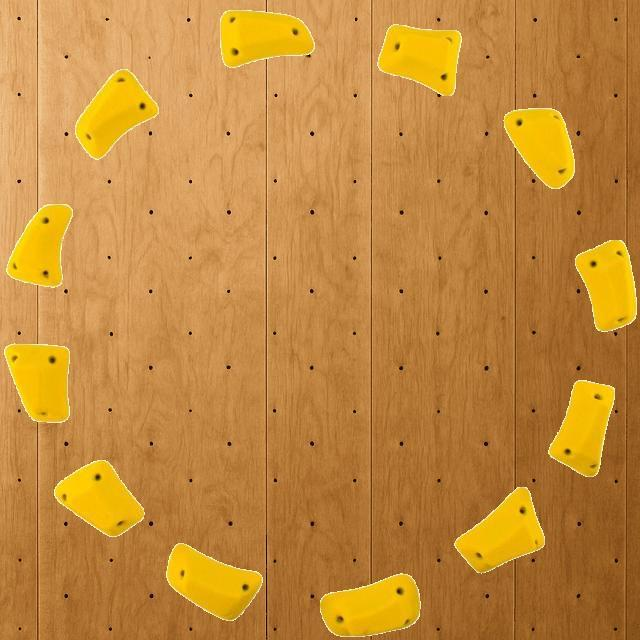Pinch: (454, 486, 544, 572), (74, 68, 158, 160), (166, 542, 262, 620), (54, 459, 144, 536), (548, 379, 614, 476), (320, 572, 420, 636), (377, 24, 461, 96), (504, 107, 574, 189), (574, 239, 636, 331), (6, 203, 72, 287), (219, 9, 313, 67), (5, 342, 70, 422)
